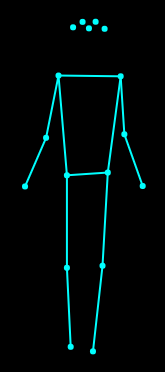mountain: (20, 10, 149, 358)
